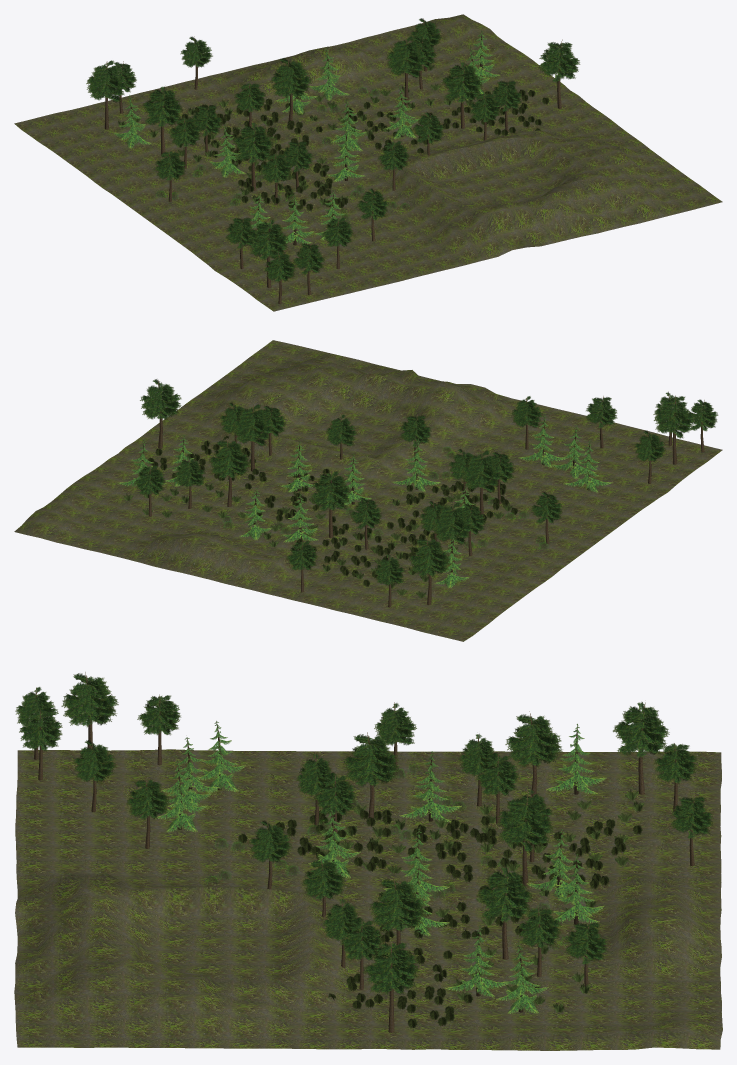
3 renders of one model, top to bottom at view 1: azimuth 30°, elevation 25°; view 2: azimuth 150°, elevation 25°; view 3: azimuth 270°, elevation 25°, orthographic. The views are drawn at different scales.
Visible parts, largest first — view 1: Object_2, Object_8, Object_9, Object_11, Object_14, Object_12, Object_10, Object_6.009, Object_6.002, Object_6.005, Object_6.001, Object_6.571 (+3 smaller); view 2: Object_2, Object_8, Object_9, Object_11, Object_14, Object_12, Object_10, Object_6.005, Object_6.004, Object_6.007, Object_6.010, Object_6.009 (+4 smaller); view 3: Object_2, Object_8, Object_9, Object_11, Object_14, Object_12, Object_10, Object_6.006, Object_6.002, Object_6.571, Object_6.001, Object_6.004 (+7 smaller).
Boxes of the visible parts, box(x1,y1,x2,y2) form: Object_2: box(14, 14, 722, 311); Object_8: box(86, 36, 580, 282); Object_9: box(232, 18, 522, 182); Object_11: box(174, 89, 548, 216); Object_14: box(104, 18, 562, 303); Object_12: box(118, 63, 489, 205); Object_10: box(156, 87, 409, 220); Object_6.009: box(385, 85, 419, 139); Object_6.002: box(112, 95, 152, 148); Object_6.005: box(327, 131, 365, 182); Object_6.001: box(308, 47, 350, 100); Object_6.571: box(208, 124, 245, 177); Object_2: box(14, 340, 722, 641); Object_8: box(140, 379, 718, 585); Object_9: box(133, 402, 514, 529); Object_11: box(148, 436, 517, 586); Object_14: box(148, 380, 704, 607); Object_12: box(123, 476, 512, 598); Object_10: box(222, 446, 548, 548); Object_6.005: box(391, 438, 441, 491); Object_6.004: box(518, 414, 567, 467); Object_6.007: box(563, 439, 612, 492); Object_6.010: box(282, 493, 318, 542); Object_6.009: box(280, 441, 314, 492); Object_2: box(14, 749, 722, 1050); Object_8: box(15, 673, 713, 994); Object_9: box(296, 734, 607, 964); Object_11: box(238, 809, 642, 1028); Object_14: box(34, 672, 695, 1032); Object_12: box(278, 789, 644, 1012); Object_10: box(205, 764, 570, 949); Object_6.006: box(496, 942, 548, 1013); Object_6.002: box(546, 724, 606, 794); Object_6.571: box(399, 751, 461, 821); Object_6.001: box(553, 853, 604, 924); Object_6.004: box(155, 760, 207, 832).
Size of the model in its own units: 16.22 by 2.45 by 16.14.
Materials: 30 (30 with a texture image).
